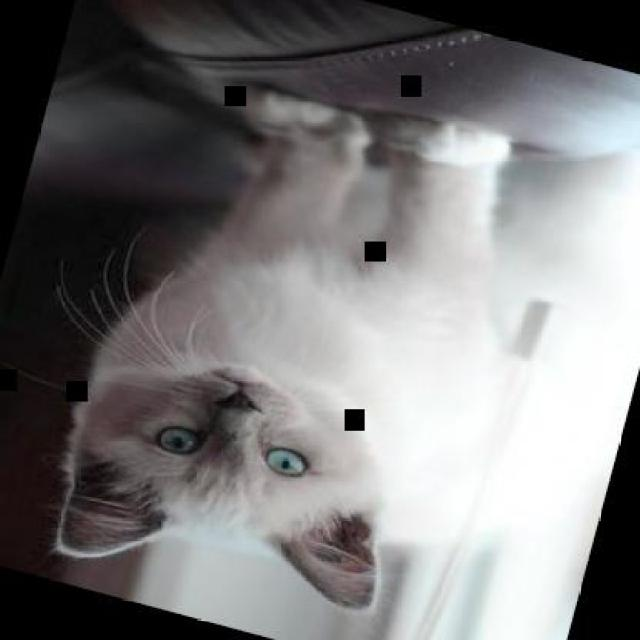cat: (32, 43, 560, 639)
